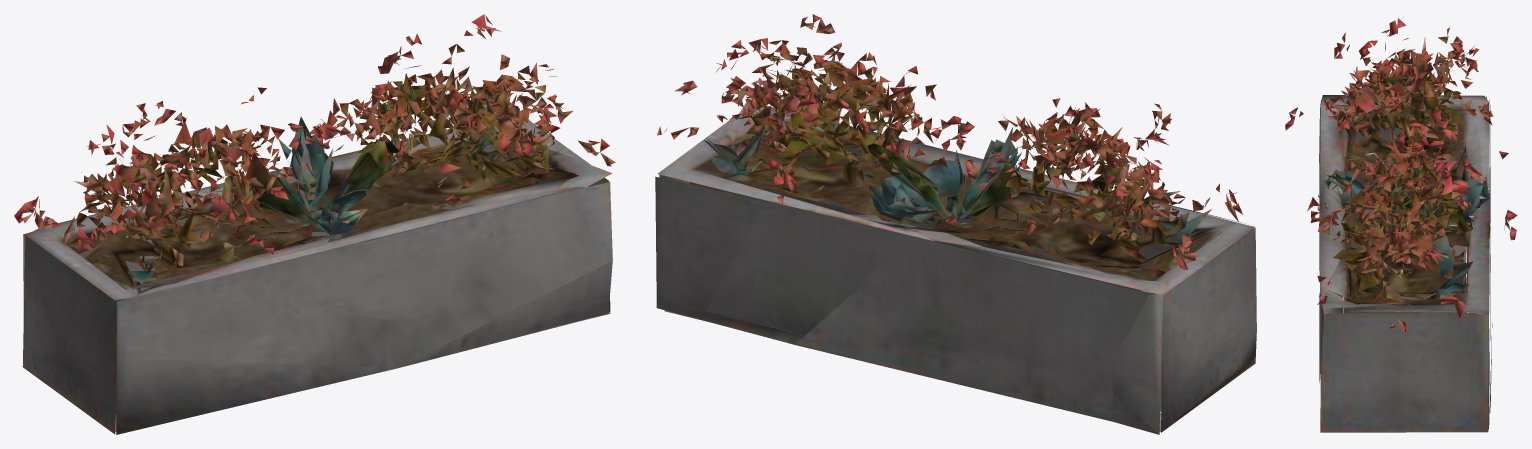
The model's file is kueste_pflanzkuebel.glb.
3 renders of one model, left to right at view 1: azimuth 30°, elevation 25°; view 2: azimuth 150°, elevation 25°; view 3: azimuth 270°, elevation 25°, orthographic. The views are drawn at different scales.
Parts seen in each view (by area): view 1: Prop; view 2: Prop; view 3: Prop.
Part boxes in pixels (<box>): Prop: <box>14,14,615,434</box>; Prop: <box>655,14,1256,434</box>; Prop: <box>1285,17,1517,432</box>.
Size of the model in its own units: 2.1 by 1.01 by 0.8592.
1 material, 1 textured.
